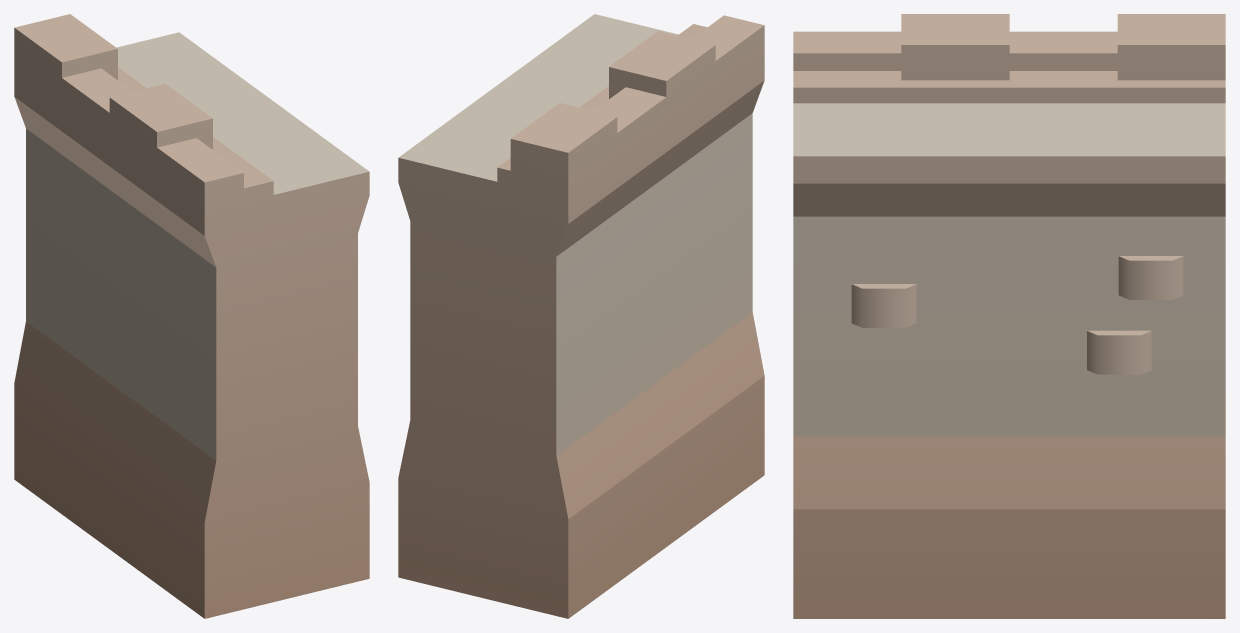
Rendered from wall-narrow.glb.
The picture shows the model from 3 angles, left to right: view 1: azimuth 30°, elevation 25°; view 2: azimuth 150°, elevation 25°; view 3: azimuth 270°, elevation 25°; orthographic projection. The views are drawn at different scales.
Parts seen in each view (by area): view 1: wall-narrow; view 2: wall-narrow; view 3: wall-narrow.
Part boxes in pixels (x1,y1,x2,y2): wall-narrow: [14, 14, 369, 618]; wall-narrow: [398, 14, 764, 618]; wall-narrow: [793, 14, 1225, 618].
Size of the model in its own units: 0.5 by 1.31 by 1.
